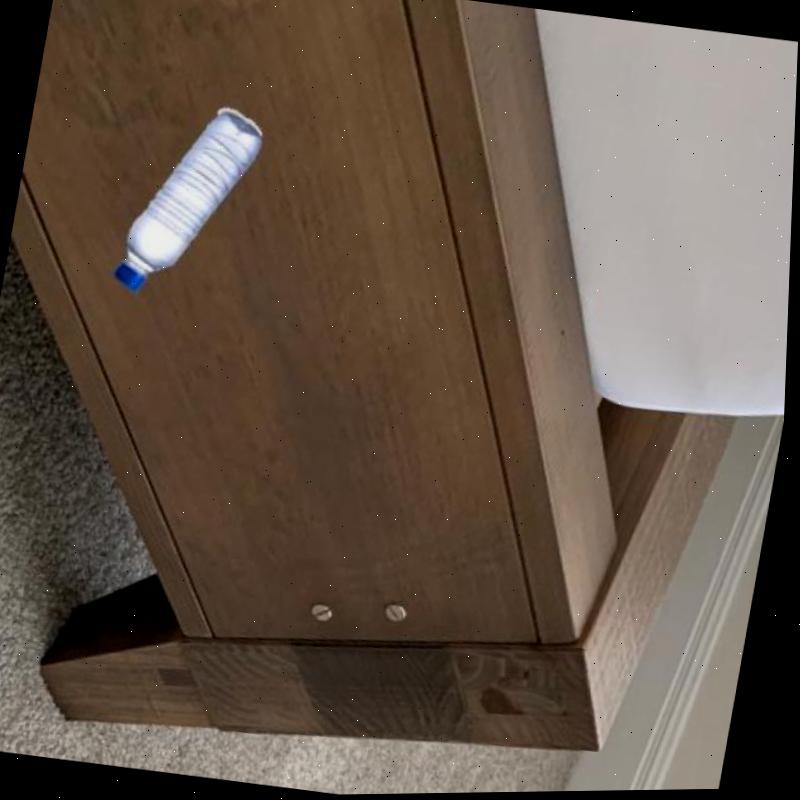botella: (111, 95, 272, 308)
